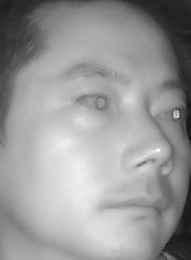eye: (76, 89, 114, 116), (151, 102, 185, 124)
mouth: (102, 187, 169, 225)
